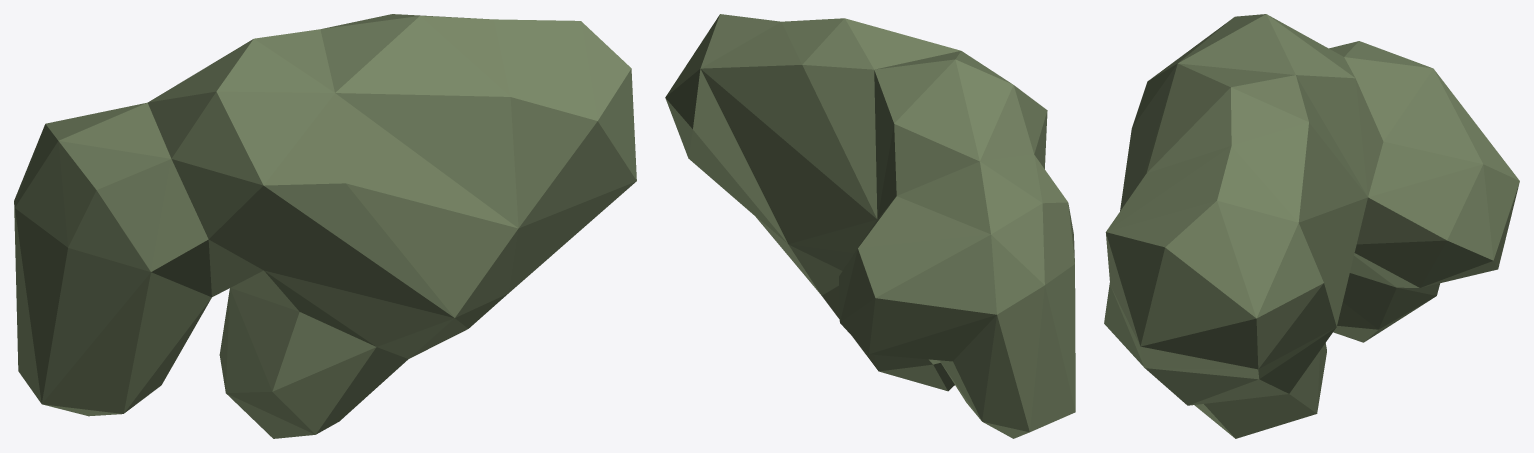
Rendered from DyingVegetationDecorationMediumCluster1.fbx.
3 renders of one model, left to right at view 1: azimuth 30°, elevation 25°; view 2: azimuth 150°, elevation 25°; view 3: azimuth 270°, elevation 25°, orthographic. The views are drawn at different scales.
Visible parts, largest first — view 1: DyingVegetationDecorationMediumCluster1; view 2: DyingVegetationDecorationMediumCluster1; view 3: DyingVegetationDecorationMediumCluster1.
Part boxes in pixels (x1,y1,x2,y2): DyingVegetationDecorationMediumCluster1: (14, 14, 636, 438); DyingVegetationDecorationMediumCluster1: (665, 14, 1075, 438); DyingVegetationDecorationMediumCluster1: (1104, 14, 1519, 438).
Size of the model in its own units: 587 by 427 by 401.
